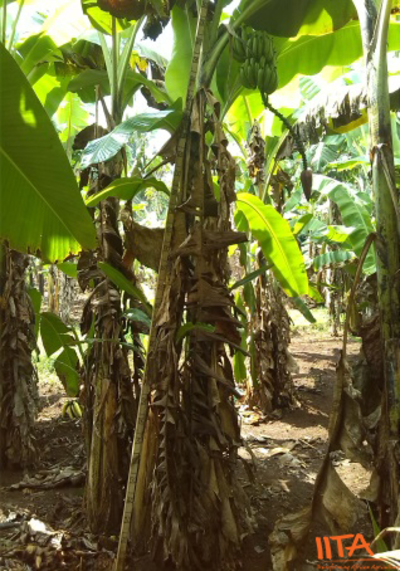bananaHand: (229, 25, 281, 94)
